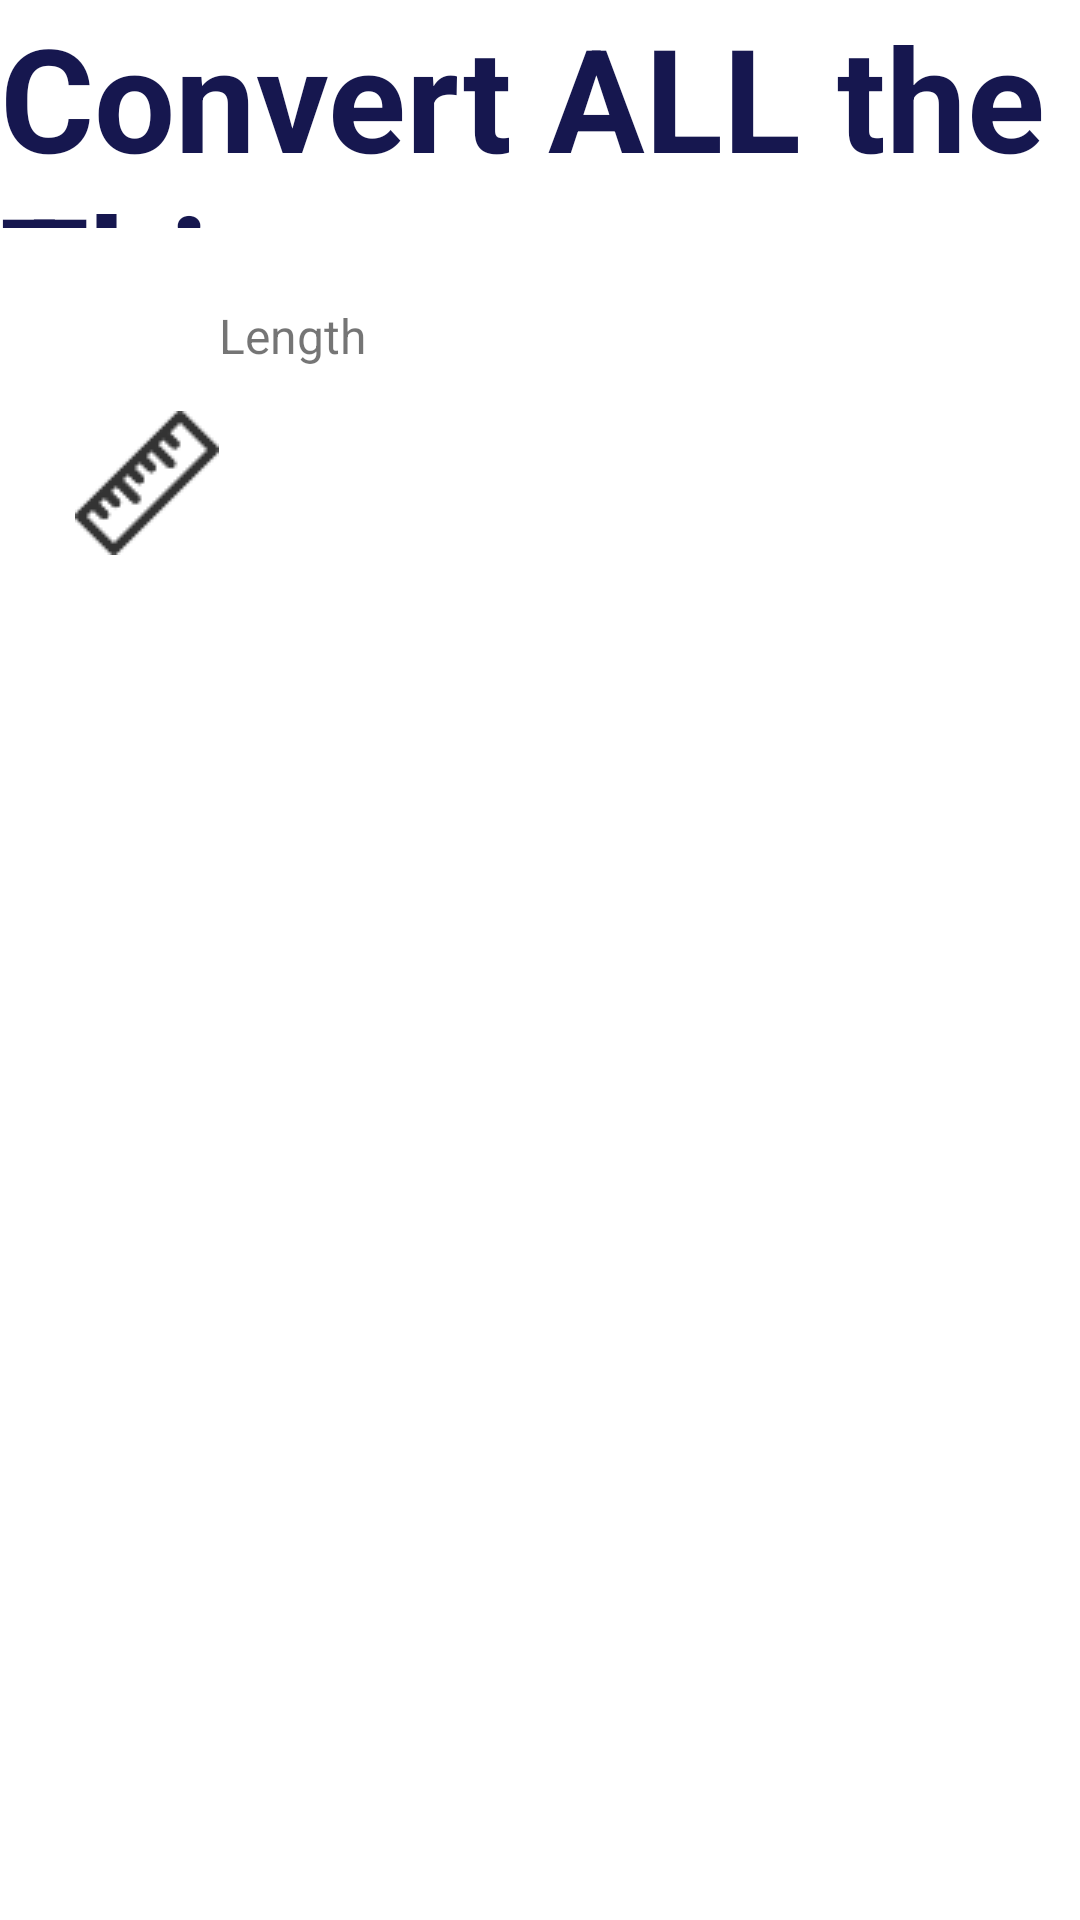

Point at icon controls on the screen. Image size 1080*1920, points as (x,y).
ruler: (147,483)
